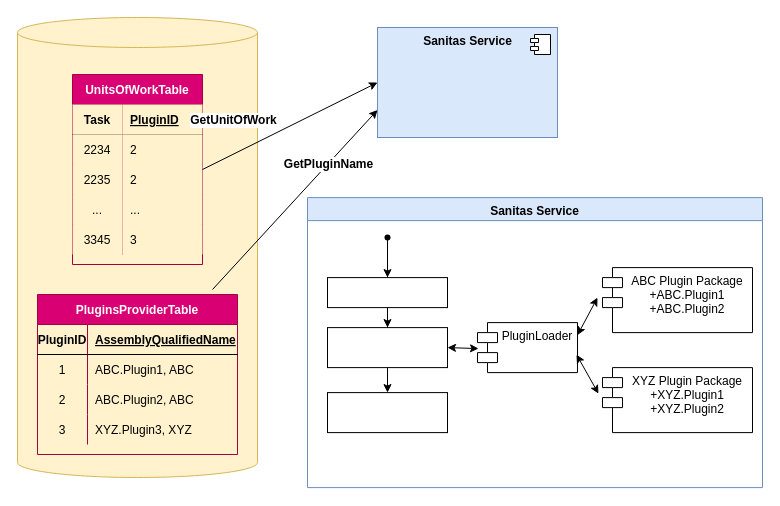
This 780x506 diagram has some shape labels left out. Each missing label, with the box of its shape:
Get Unit of Work: (326, 277, 448, 308)
Load Plugin for Unit of Work: (326, 327, 448, 368)
Use Plugin to Complete Task: (326, 392, 448, 433)
